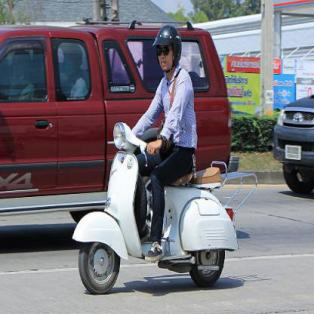Motocicleta: (72, 112, 239, 299)
